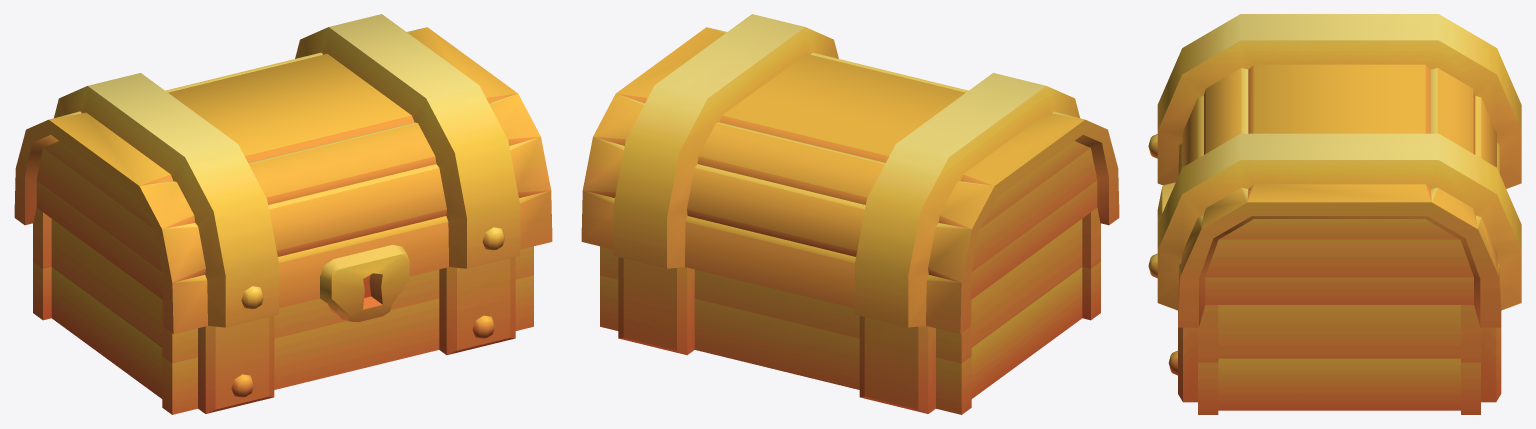
File: chest_large_gold.glb
The picture shows the model from 3 angles, left to right: view 1: azimuth 30°, elevation 25°; view 2: azimuth 150°, elevation 25°; view 3: azimuth 270°, elevation 25°; orthographic projection.
Visible parts, largest first — view 1: chest_large_gold_lid, chest_large_gold; view 2: chest_large_gold_lid, chest_large_gold; view 3: chest_large_gold_lid, chest_large_gold.
Part boxes in pixels (x1,y1,x2,y2): chest_large_gold_lid: (14,14,552,334); chest_large_gold: (33,207,533,414); chest_large_gold_lid: (581,14,1119,334); chest_large_gold: (600,207,1100,414); chest_large_gold_lid: (1148,14,1521,327); chest_large_gold: (1168,305,1501,414).
Size of the model in its own units: 2.2 by 1.3 by 1.85.
1 material, 1 textured.
